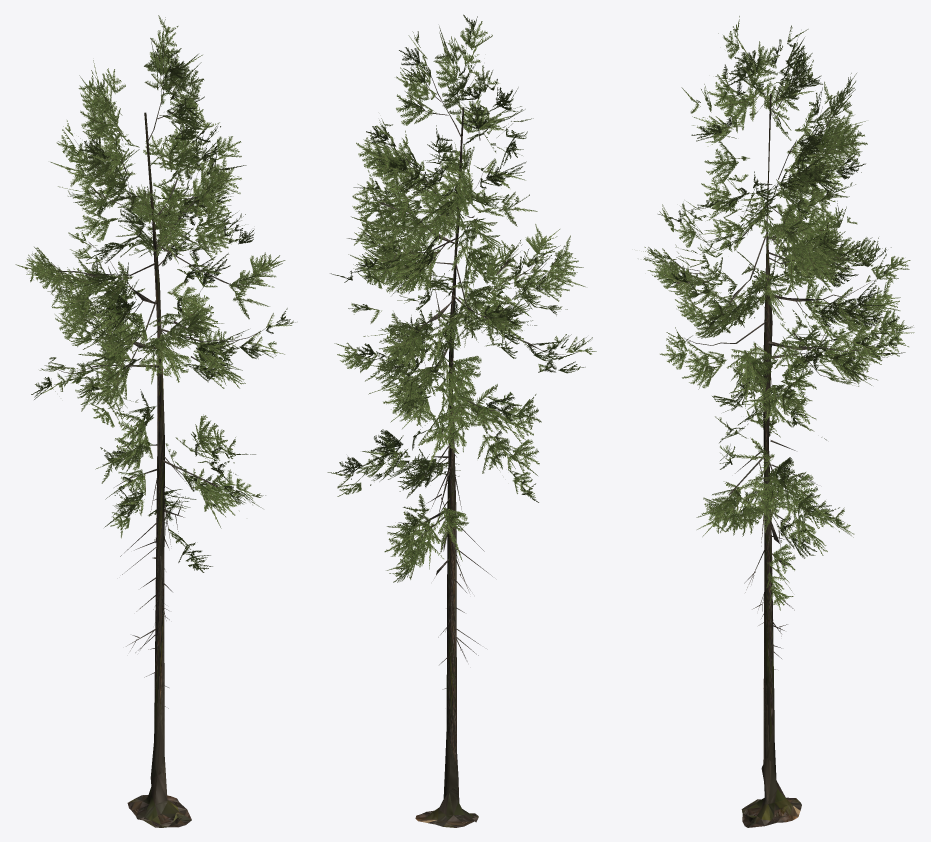
Rendered from conifer-b.glb.
The picture shows the model from 3 angles, left to right: view 1: azimuth 30°, elevation 25°; view 2: azimuth 150°, elevation 25°; view 3: azimuth 270°, elevation 25°; orthographic projection.
Parts seen in each view (by area): view 1: SM_AlpineConifer_B_2, SM_AlpineConifer_B_1, SM_AlpineConifer_B_0, SM_AlpineConifer_B_3; view 2: SM_AlpineConifer_B_2, SM_AlpineConifer_B_1, SM_AlpineConifer_B_0, SM_AlpineConifer_B_3; view 3: SM_AlpineConifer_B_2, SM_AlpineConifer_B_1, SM_AlpineConifer_B_0, SM_AlpineConifer_B_3.
Boxes of the visible parts, x1=… form: SM_AlpineConifer_B_2: x1=15, y1=15, x2=295, y2=572; SM_AlpineConifer_B_1: x1=127, y1=112, x2=191, y2=827; SM_AlpineConifer_B_0: x1=51, y1=40, x2=273, y2=486; SM_AlpineConifer_B_3: x1=114, y1=444, x2=186, y2=708; SM_AlpineConifer_B_2: x1=327, y1=14, x2=596, y2=582; SM_AlpineConifer_B_1: x1=415, y1=107, x2=478, y2=827; SM_AlpineConifer_B_0: x1=373, y1=52, x2=565, y2=474; SM_AlpineConifer_B_3: x1=398, y1=444, x2=492, y2=689; SM_AlpineConifer_B_2: x1=643, y1=16, x2=914, y2=610; SM_AlpineConifer_B_1: x1=741, y1=94, x2=801, y2=827; SM_AlpineConifer_B_0: x1=673, y1=51, x2=895, y2=495; SM_AlpineConifer_B_3: x1=735, y1=440, x2=817, y2=707.
Bounding box in the file's own units: 4.61 × 15.31 × 5.03.
4 materials, 4 textured.
